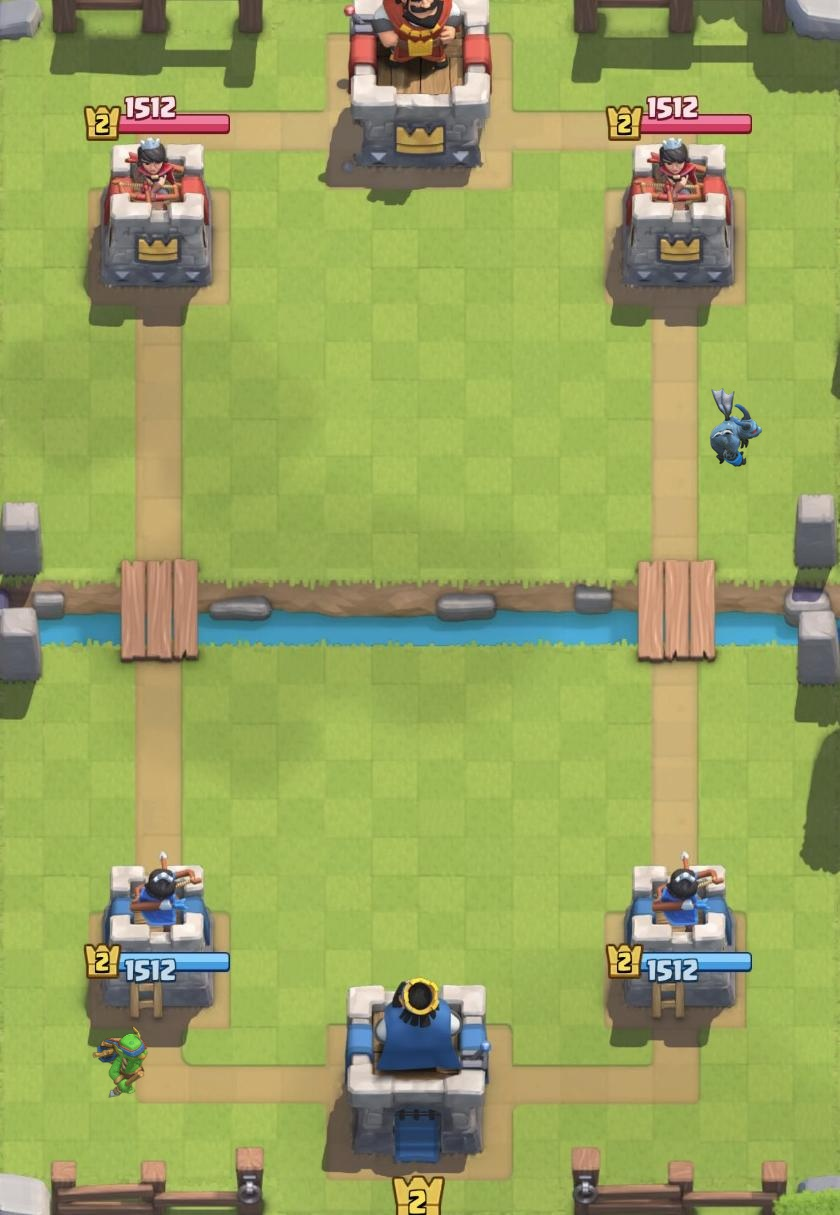minion_ally: (709, 388, 762, 467)
spoblin_ally: (92, 1026, 148, 1098)
